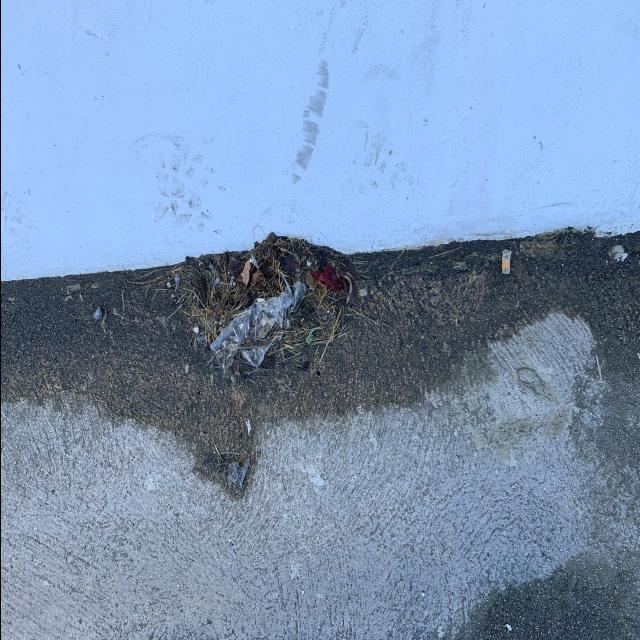Cigarette: (501, 250, 510, 275)
Plastic film: (209, 275, 305, 376)
Unlabeled litter: (310, 266, 342, 293), (256, 298, 264, 302)
